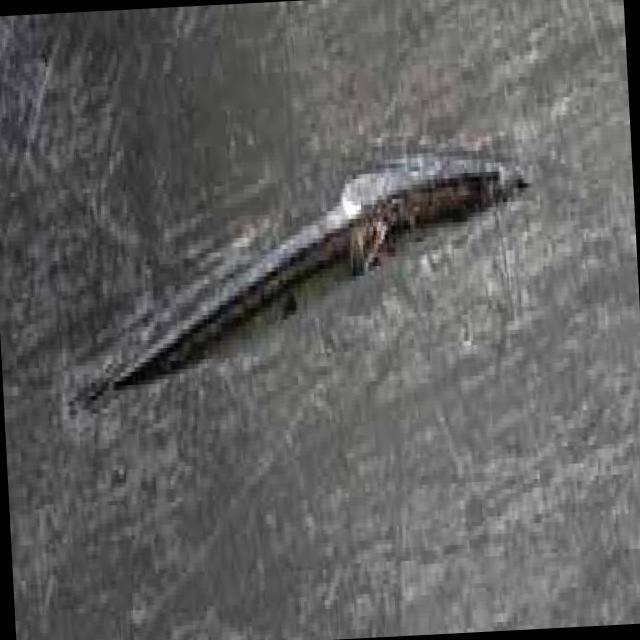Tear: (102, 166, 534, 401)
